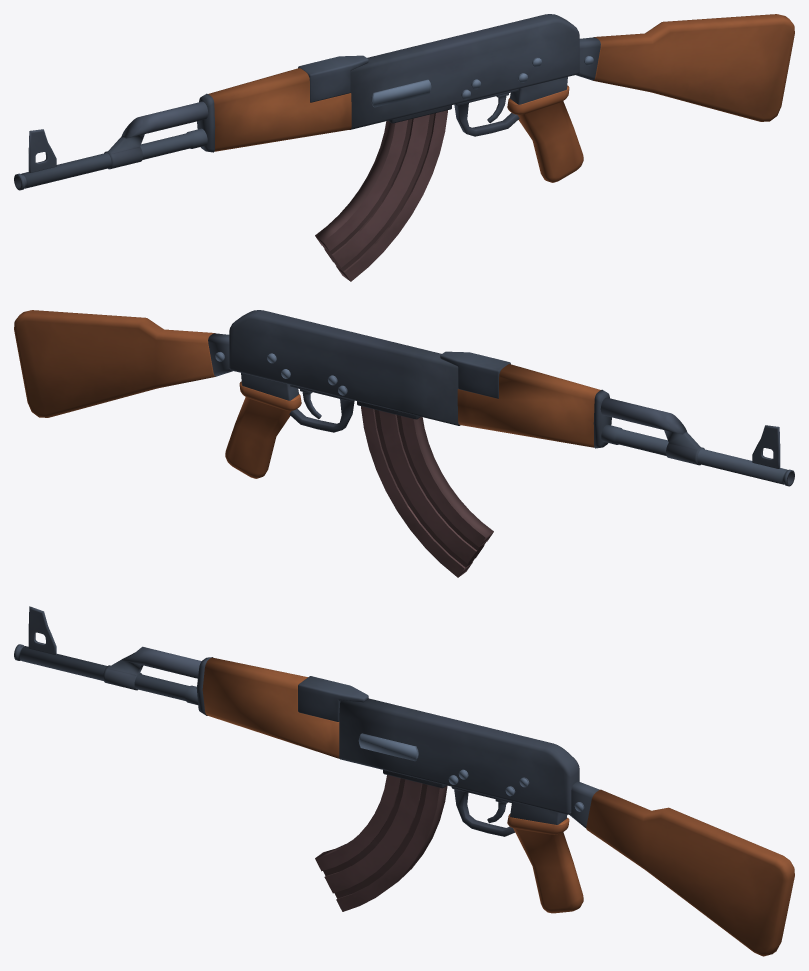
The model's file is rifle1.fbx.
3 renders of one model, top to bottom at view 1: azimuth 30°, elevation 25°; view 2: azimuth 150°, elevation 25°; view 3: azimuth 330°, elevation 25°, orthographic.
Parts seen in each view (by area): view 1: rifle, cartridge; view 2: rifle, cartridge; view 3: rifle, cartridge.
Boxes of the visible parts, x1=… form: rifle: x1=14, y1=14, x2=794, y2=190; cartridge: x1=315, y1=110, x2=447, y2=281; rifle: x1=14, y1=310, x2=794, y2=486; cartridge: x1=361, y1=406, x2=493, y2=577; rifle: x1=14, y1=606, x2=794, y2=956; cartridge: x1=315, y1=775, x2=447, y2=911.
Size of the model in its own units: 91.39 by 25.41 by 2.81.
Materials: 1 (1 with a texture image).
